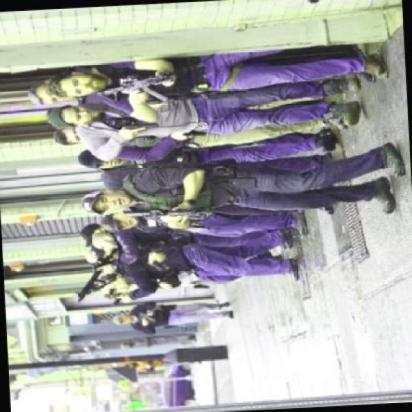Gun: (105, 68, 177, 106), (71, 261, 109, 302), (157, 203, 213, 224), (121, 119, 156, 135)
